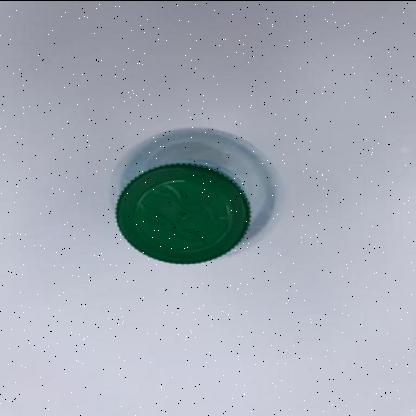Plastic Bottle: (111, 127, 275, 263)
